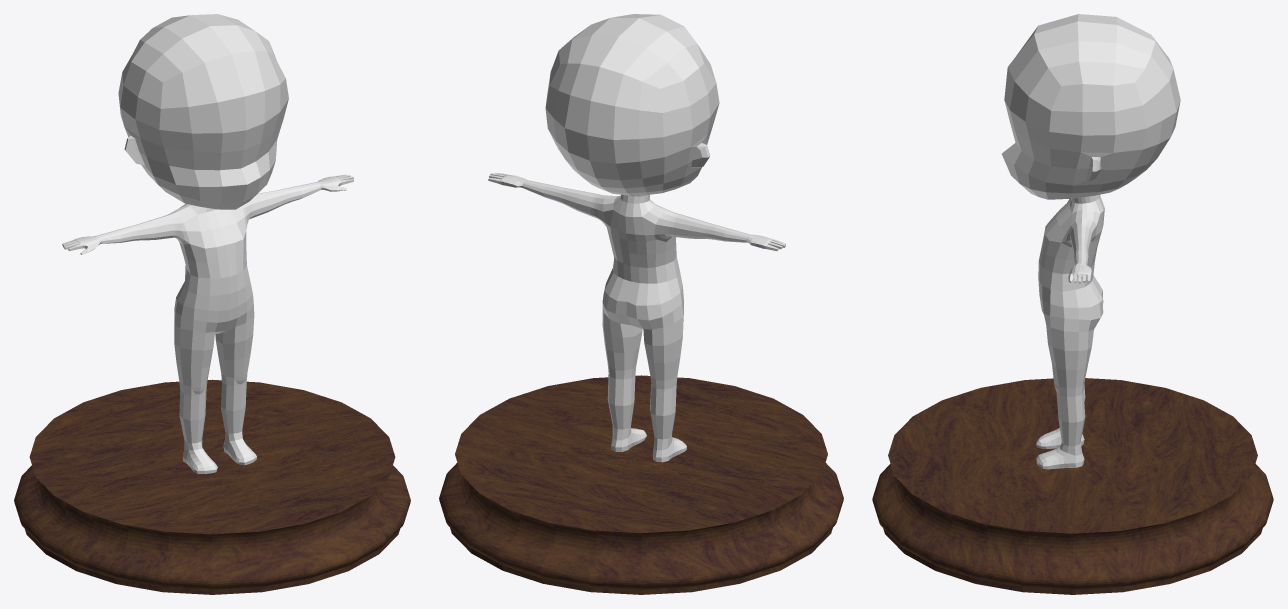
The model's file is GenericCharacter.gltf.
3 renders of one model, left to right at view 1: azimuth 30°, elevation 25°; view 2: azimuth 150°, elevation 25°; view 3: azimuth 270°, elevation 25°, orthographic. The views are drawn at different scales.
Parts seen in each view (by area): view 1: BézierCurve, Chibi_Object; view 2: BézierCurve, Chibi_Object; view 3: BézierCurve, Chibi_Object.
Boxes of the visible parts, x1,y1,x2,y2 form: BézierCurve: (14, 379, 410, 594); Chibi_Object: (62, 14, 353, 473); BézierCurve: (439, 375, 843, 594); Chibi_Object: (488, 14, 785, 462); BézierCurve: (872, 378, 1273, 594); Chibi_Object: (1002, 14, 1180, 469).
Size of the model in its own units: 0.9545 by 1.29 by 0.9545.
1 material, 1 textured.
